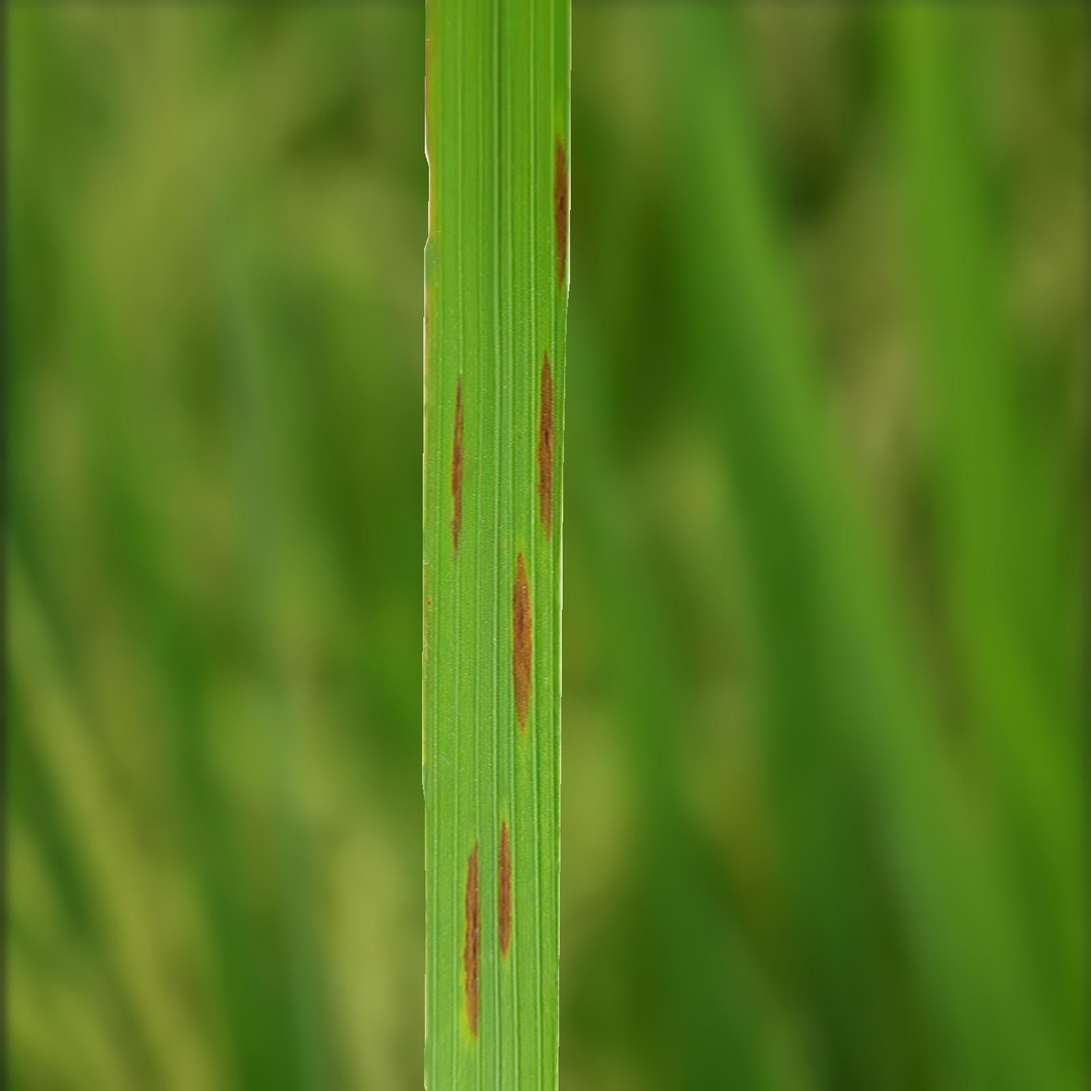LEAF: (422, 0, 571, 1090)
NBS: (463, 843, 481, 1038), (513, 553, 532, 732), (538, 353, 554, 537), (451, 376, 463, 553), (554, 136, 568, 286), (498, 820, 511, 956)
